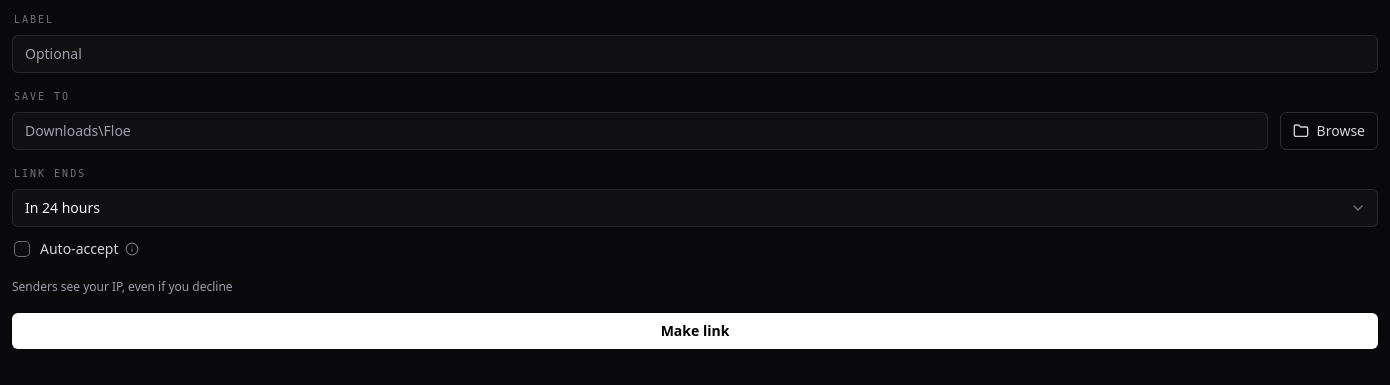
Test case: Auto-accept (D-173, D-174) › the info icon is a named button whose tooltip warns, then says what it does (R31, R31a, R32)
Hover over the button named "About Auto-accept": [132, 249] box [120,237,144,261]
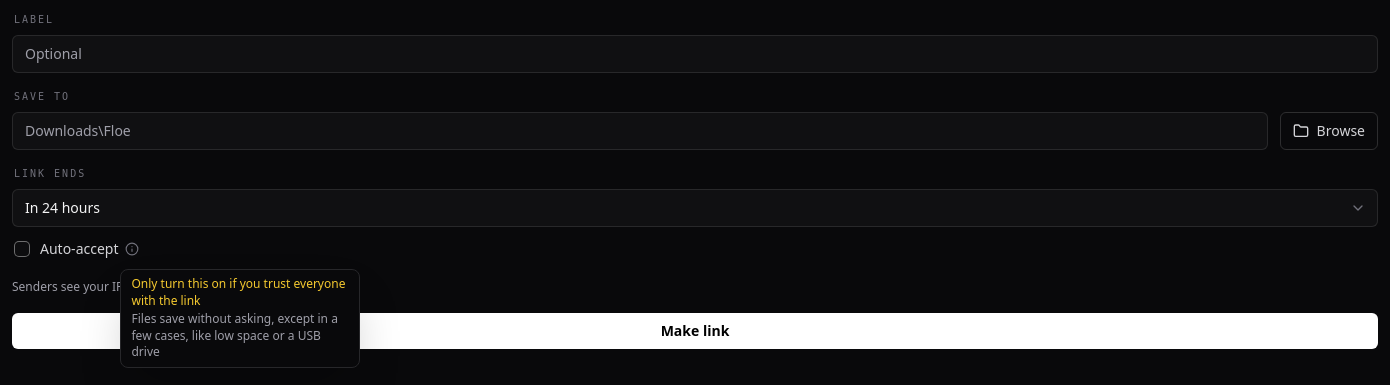
Move the pointer off the button named "About Auto-accept", box [120,237,144,261]
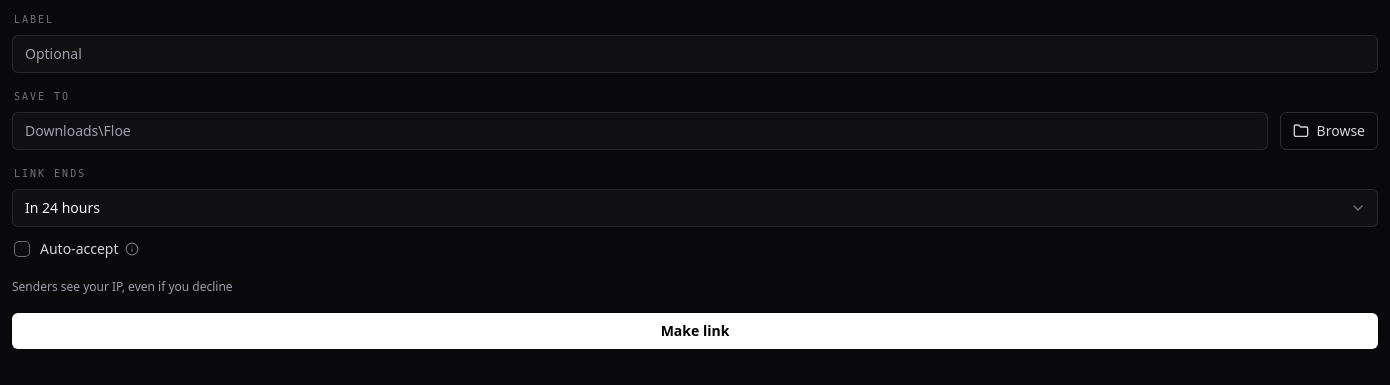
Check: the tooltip is gone
Click the button named "About Auto-accept": [132, 249] box [120,237,144,261]
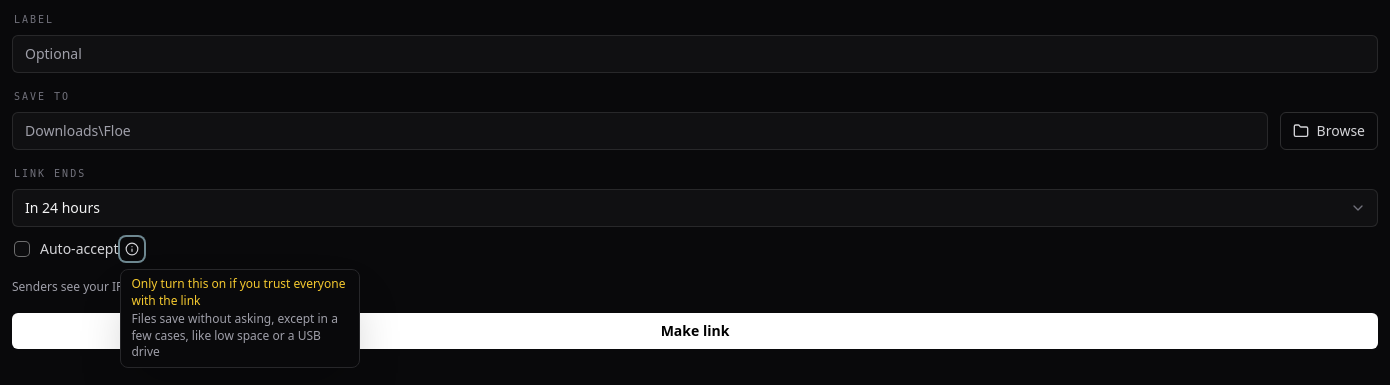
Check: the tooltip shows "Only turn this on if you trust everyone with the link", box [132,275,346,308]
Click the button named "About Auto-accept": [132, 249] box [120,237,144,261]
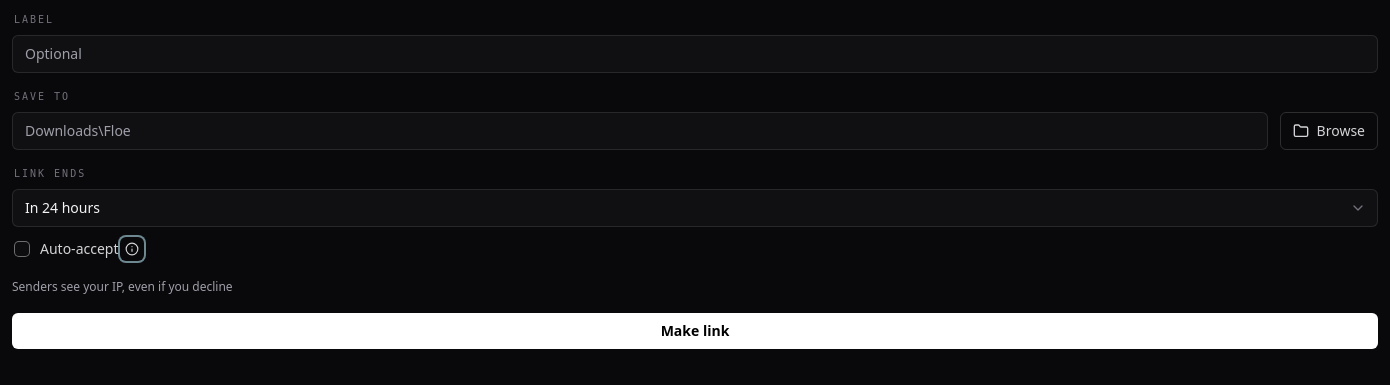
Check: the checkbox labelled "Auto-accept" is not checked, box [14,237,118,261]
Check: the tooltip is gone
